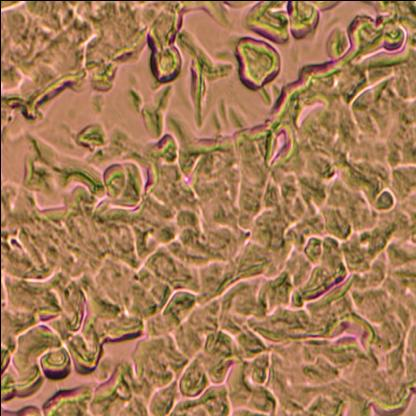Stage I: (0, 158, 416, 416), (210, 0, 416, 416), (0, 1, 236, 121)
